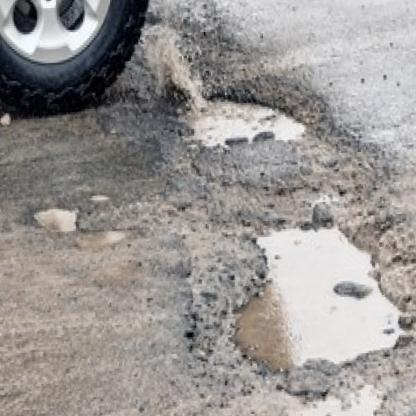pothole: (212, 207, 416, 391), (171, 75, 316, 167)
